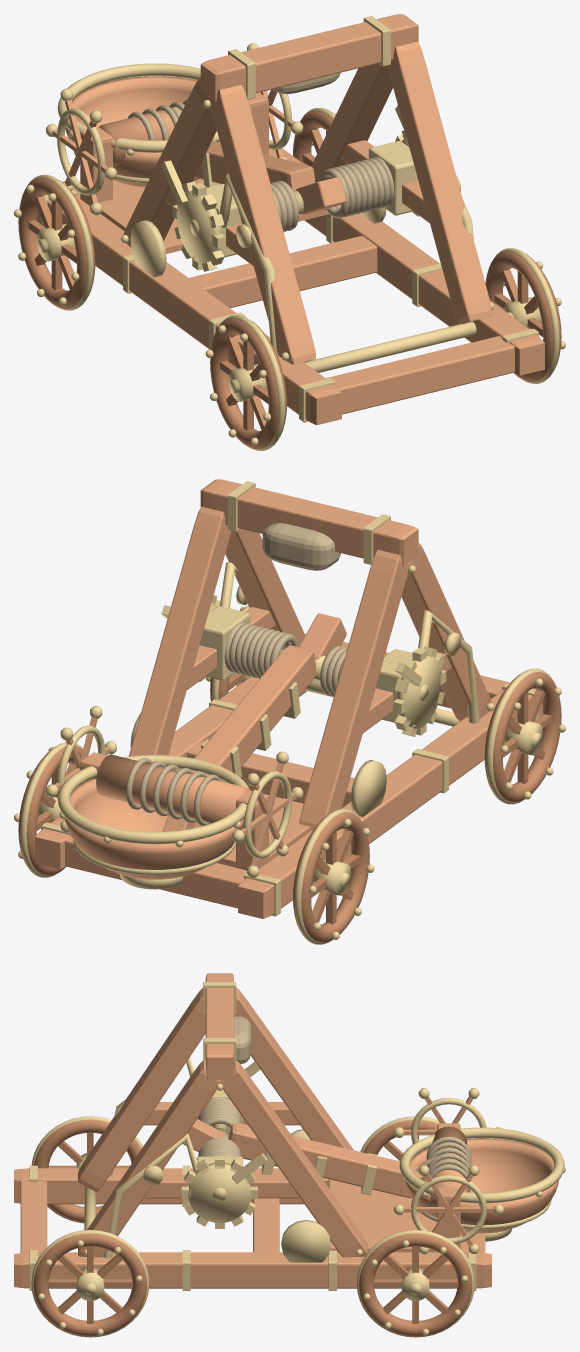
File: dm_catapultcopper.glb
3 views of the same model, one above another, from view 1: azimuth 30°, elevation 25°; view 2: azimuth 150°, elevation 25°; view 3: azimuth 270°, elevation 25° (orthographic). The views are drawn at different scales.
Visible parts, largest first — view 1: Base_Metal_FrameFront.001, Base_Metal_FrameFront, Base_Metal_Rail, Base_Metal_StopBar, Base_Metal_Rail.001, Base_Metal_CrossBeam, Base_Metal_CrossBeam.001, Base_Metal_FrameBack, Arm_Metal_Bucket, Base_Metal_FrameBack.001, Base_CorrodedMetal_WheelRim.001, Base_CorrodedMetal_WheelRim (+26 smaller); view 2: Base_Metal_FrameBack, Base_Metal_FrameBack.001, Base_Metal_Rail, Base_Metal_StopBar, Arm_Metal_Bucket, Arm_Metal_ArmBeam, Base_Metal_FrameFront, Base_Metal_WinchDrum, Arm_Metal_BucketRim, Base_Metal_FrameFront.001, Base_CorrodedMetal_WheelRim, Base_CorrodedMetal_WheelRim.001 (+26 smaller); view 3: Base_Metal_Rail.001, Base_Metal_FrameBack.001, Base_Metal_FrameFront, Arm_Metal_Bucket, Base_Metal_FrameFront.001, Base_Metal_FrameBack, Base_CorrodedMetal_WheelRim.003, Base_CorrodedMetal_WheelRim.002, Arm_Metal_ArmBeam, Arm_Metal_BucketRim, Base_Metal_Rail, Base_Metal_StopBar (+26 smaller).
Part boxes in pixels (x1,y1,x2,y2): Base_Metal_FrameFront.001: (387,41,492,324); Base_Metal_FrameFront: (209,84,315,364); Base_Metal_Rail: (36,194,341,425); Base_Metal_StopBar: (200,14,418,101); Base_Metal_Rail.001: (269,139,544,375); Base_Metal_CrossBeam: (326,336,514,414); Base_Metal_CrossBeam.001: (189,235,377,308); Base_Metal_FrameBack: (123,77,216,247); Arm_Metal_Bucket: (65,76,220,187); Base_Metal_FrameBack.001: (311,63,392,182); Base_CorrodedMetal_WheelRim.001: (18,178,95,308); Base_CorrodedMetal_WheelRim: (210,318,286,448); Base_Metal_FrameBack: (299,549,409,830); Base_Metal_FrameBack.001: (128,506,231,756); Base_Metal_Rail: (238,688,543,918); Base_Metal_StopBar: (200,479,418,566); Arm_Metal_Bucket: (64,778,243,879); Arm_Metal_ArmBeam: (192,645,316,775); Base_Metal_FrameFront: (401,543,491,721); Base_Metal_WinchDrum: (96,754,250,823); Arm_Metal_BucketRim: (57,755,248,844); Base_Metal_FrameFront.001: (225,529,305,646); Base_CorrodedMetal_WheelRim: (484,672,561,802); Base_CorrodedMetal_WheelRim.001: (293,812,369,942); Base_Metal_Rail.001: (14,1252,491,1288); Base_Metal_FrameBack.001: (220,1059,368,1257); Base_Metal_FrameFront: (78,988,205,1192); Arm_Metal_Bucket: (406,1138,558,1233); Base_Metal_FrameFront.001: (78,1060,219,1257); Base_Metal_FrameBack: (234,987,353,1150); Base_CorrodedMetal_WheelRim.003: (359,1233,472,1336); Base_CorrodedMetal_WheelRim.002: (33,1233,146,1336); Arm_Metal_ArmBeam: (228,1123,421,1198); Arm_Metal_BucketRim: (399,1127,564,1203); Base_Metal_Rail: (14,1168,328,1204); Base_Metal_StopBar: (205,973,233,1079).
Size of the model in its own units: 9 by 8.93 by 16.62.
